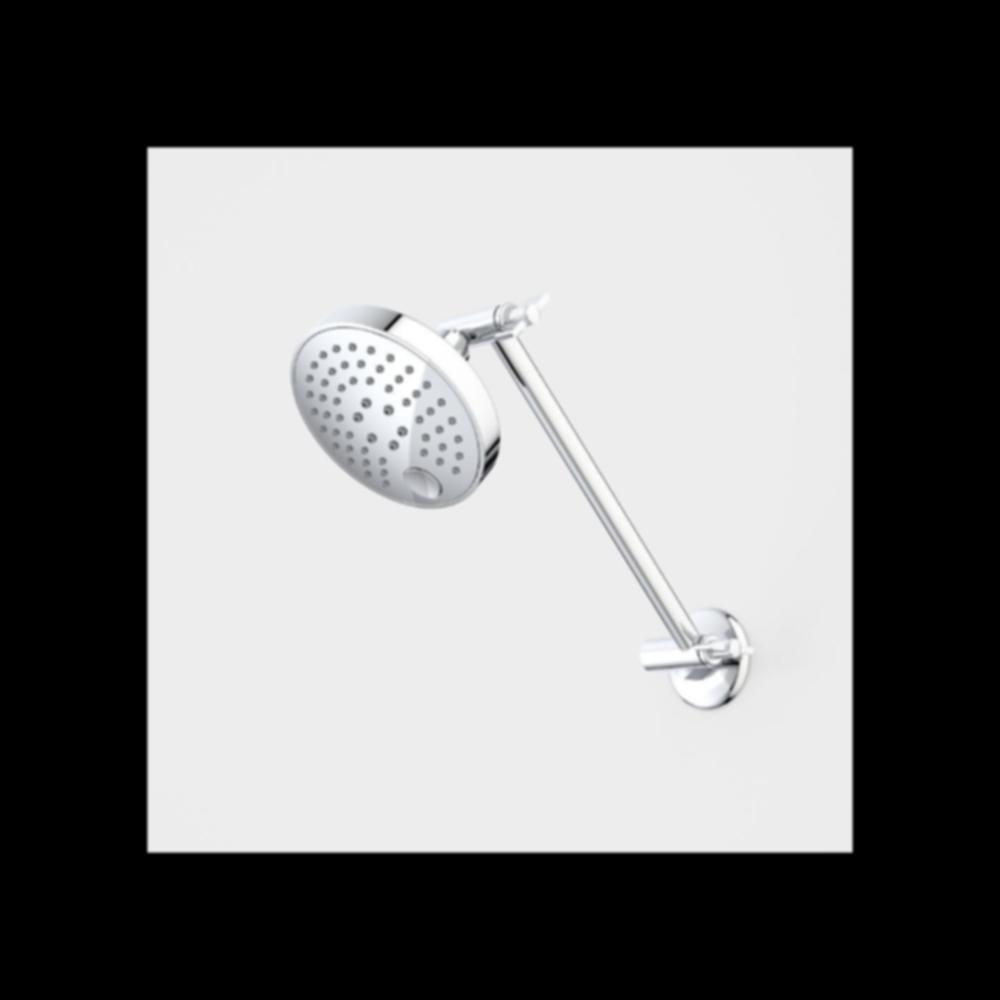Ducha: (265, 288, 758, 746)
